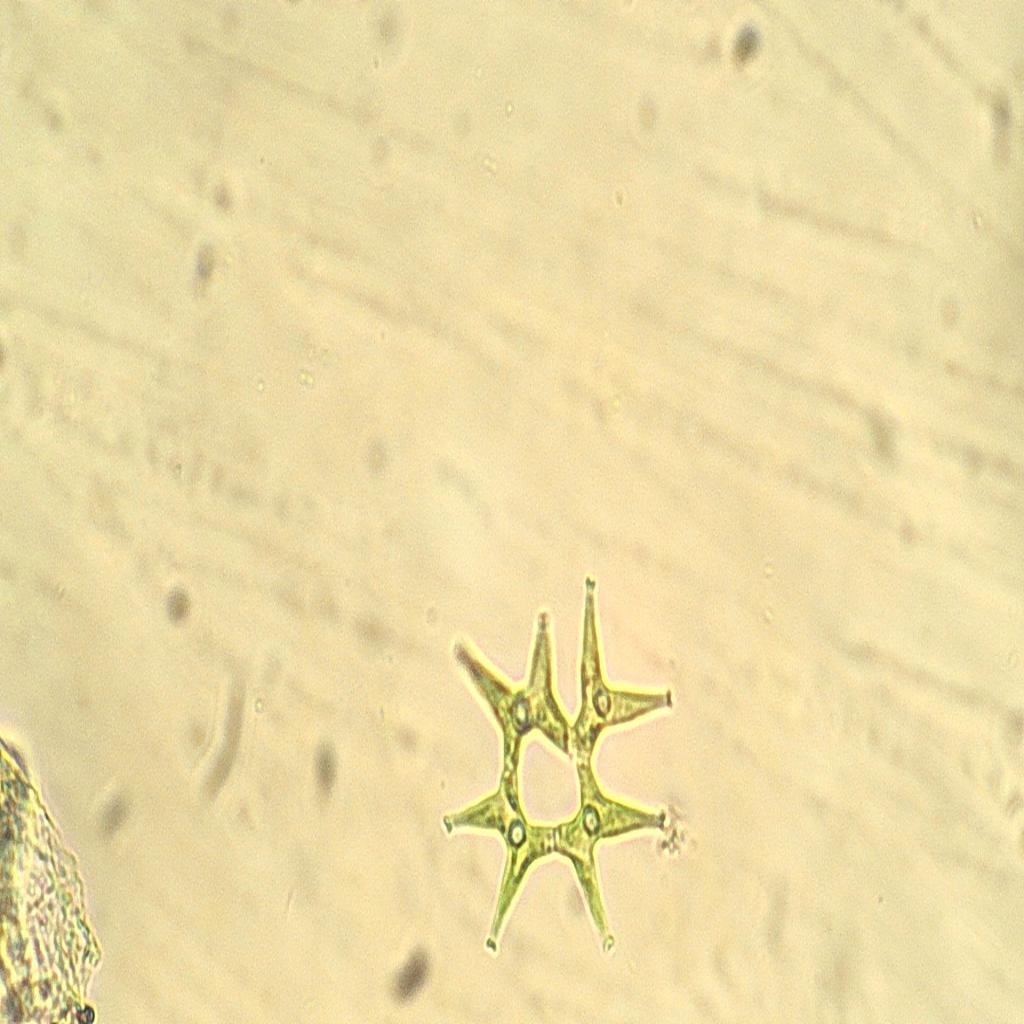Pediastrum_75FI: (438, 547, 685, 992)
